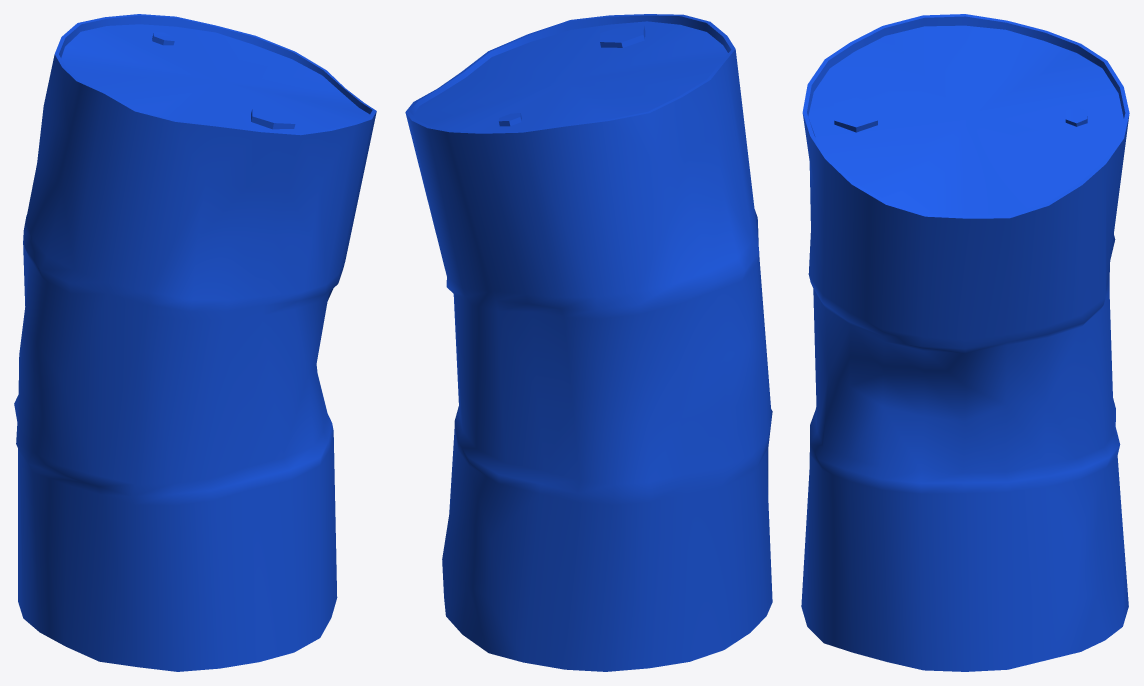
Rendered from barrel_damage3.fbx.
The picture shows the model from 3 angles, left to right: view 1: azimuth 30°, elevation 25°; view 2: azimuth 150°, elevation 25°; view 3: azimuth 270°, elevation 25°; orthographic projection.
Parts seen in each view (by area): view 1: barrel_damage3; view 2: barrel_damage3; view 3: barrel_damage3.
Part boxes in pixels (x1,y1,x2,y2): barrel_damage3: (14,14,376,671); barrel_damage3: (405,14,772,671); barrel_damage3: (801,14,1129,671).
Size of the model in its own units: 56.04 by 91.79 by 49.92.
